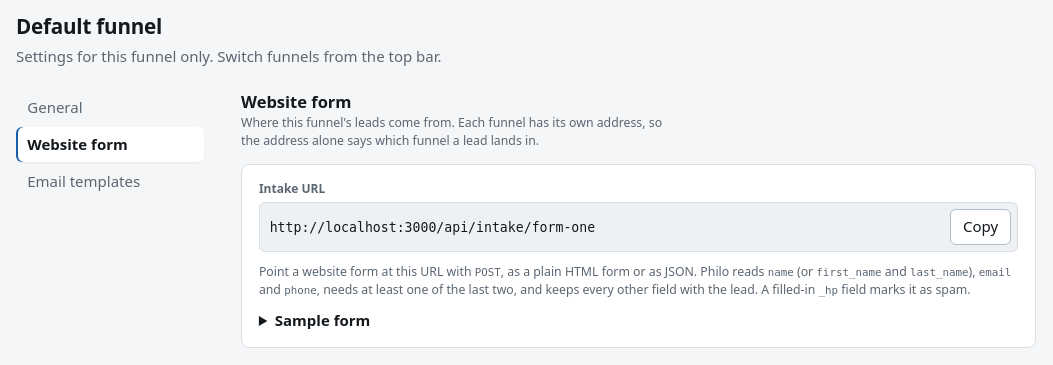
Test: intake details › shows each funnel its own URL, and copies it
Expected: the text "http://localhost:3000/api/intake/form-one" is shown, [270,220,595,235]
Click the button with aria-label "intake URL". click: (981, 227)
box: [950,209,1011,245]
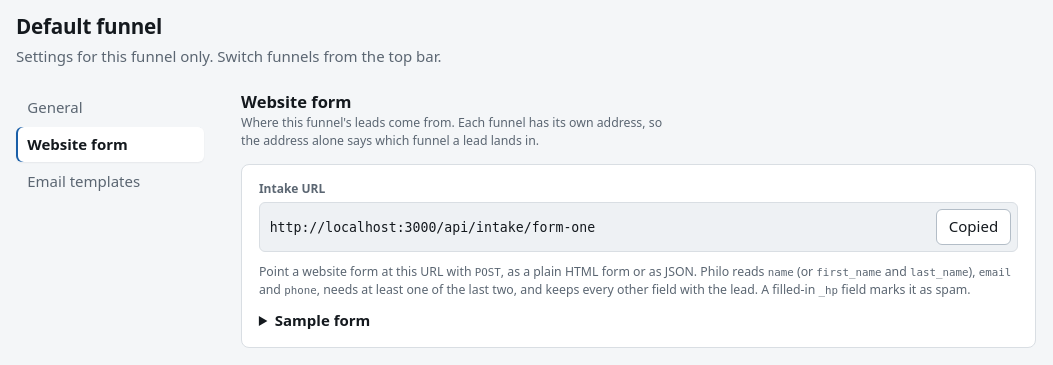
Now the button "Copied" is shown, box [936,209,1011,245]
